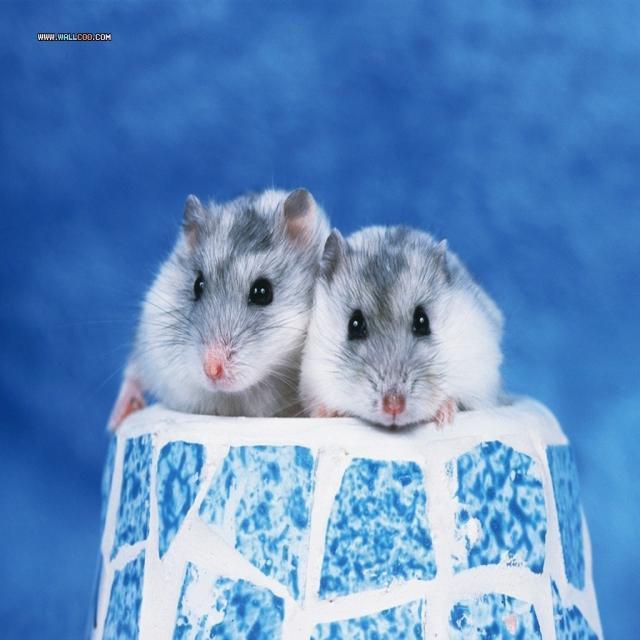rat: (106, 182, 332, 430), (279, 222, 506, 426)
